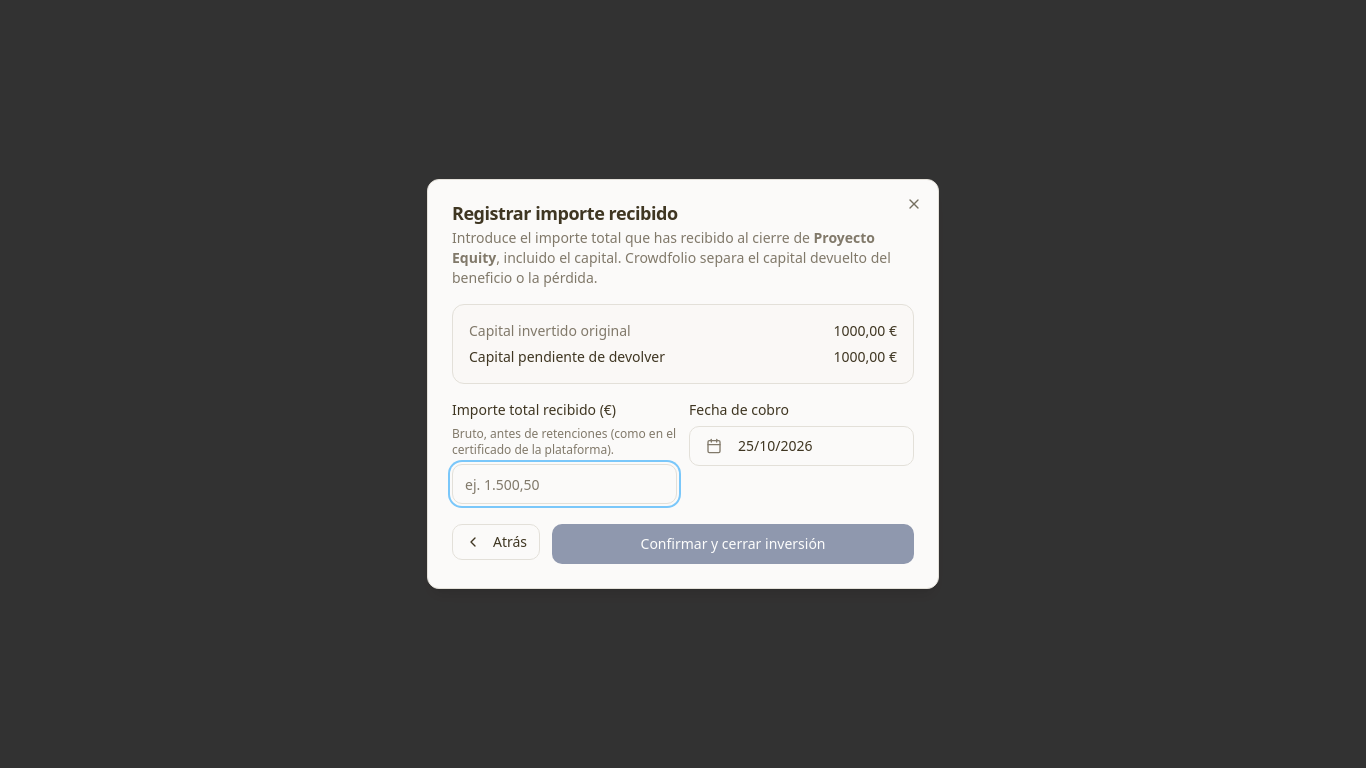
Test case: EquityExitForm › muestra el error si no se ha podido guardar y no se cierra
Type "1000" into the field with placeholder "ej. 1.500,50". click: (564, 484)
box: x1=452 y1=464 x2=677 y2=504
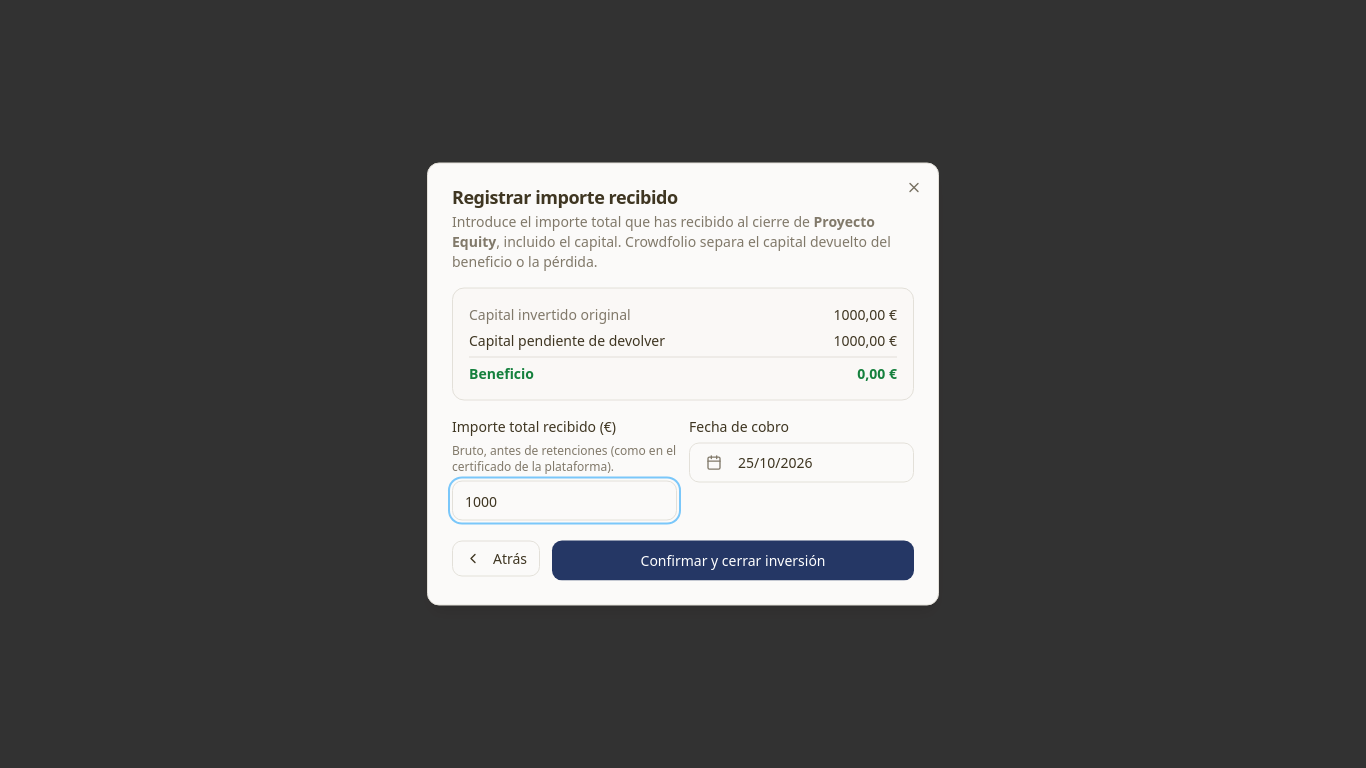
Click the button "Confirmar y cerrar inversión". click: (733, 560)
box: x1=552 y1=540 x2=914 y2=580
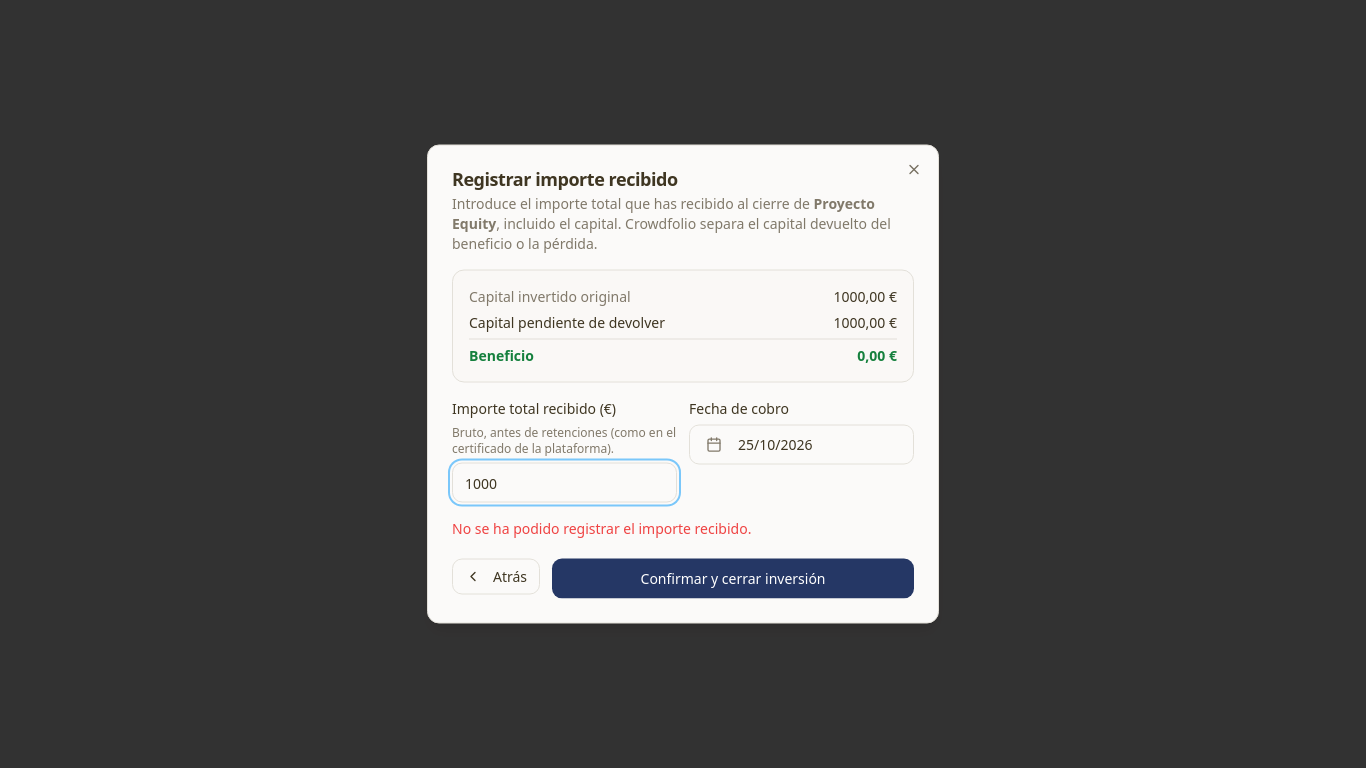
Expected: the text "No se ha podido registrar el importe recibido." is shown, x1=452 y1=518 x2=751 y2=538
